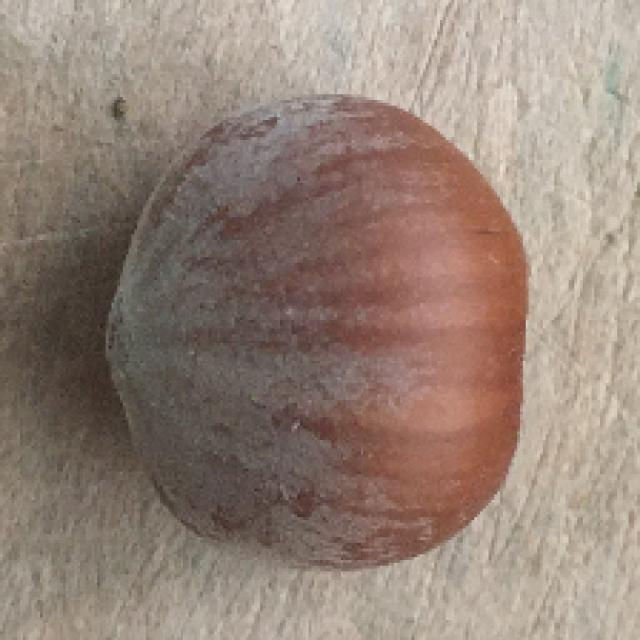QualityHazelnut: (101, 90, 530, 570)
